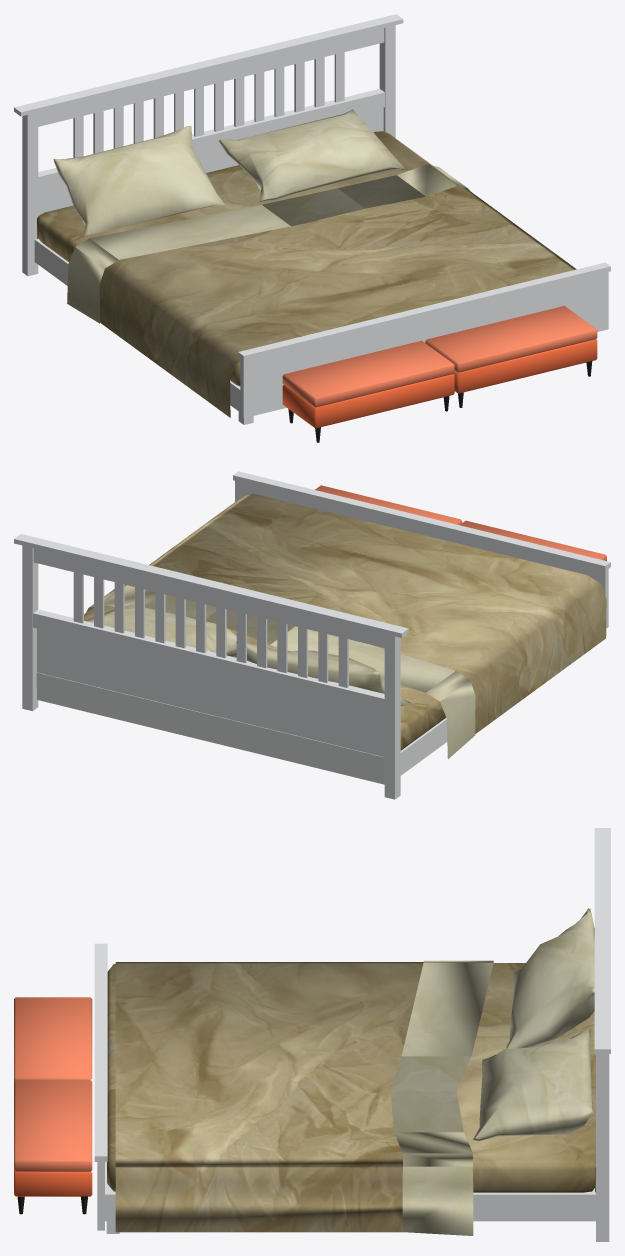
Rendered from M_chuangpin01.FBX.
3 views of the same model, one above another, from view 1: azimuth 30°, elevation 25°; view 2: azimuth 150°, elevation 25°; view 3: azimuth 270°, elevation 25° (orthographic). The views are drawn at different scales.
Visible parts, largest first — view 1: M_chuang01_02, M_chuang01_01, M_chuang01_03; view 2: M_chuang01_01, M_chuang01_02, M_chuang01_03; view 3: M_chuang01_02, M_chuang01_03, M_chuang01_01.
Boxes of the visible parts, x1,y1,x2,y2 form: M_chuang01_02: [37, 109, 576, 417]; M_chuang01_01: [14, 14, 610, 424]; M_chuang01_03: [282, 306, 597, 428]; M_chuang01_01: [14, 471, 610, 799]; M_chuang01_02: [84, 493, 606, 758]; M_chuang01_03: [315, 485, 606, 560]; M_chuang01_02: [107, 908, 595, 1235]; M_chuang01_03: [14, 997, 92, 1196]; M_chuang01_01: [94, 828, 610, 1241].
Bounding box in the file's own units: 4.27 × 1.77 × 4.87.
